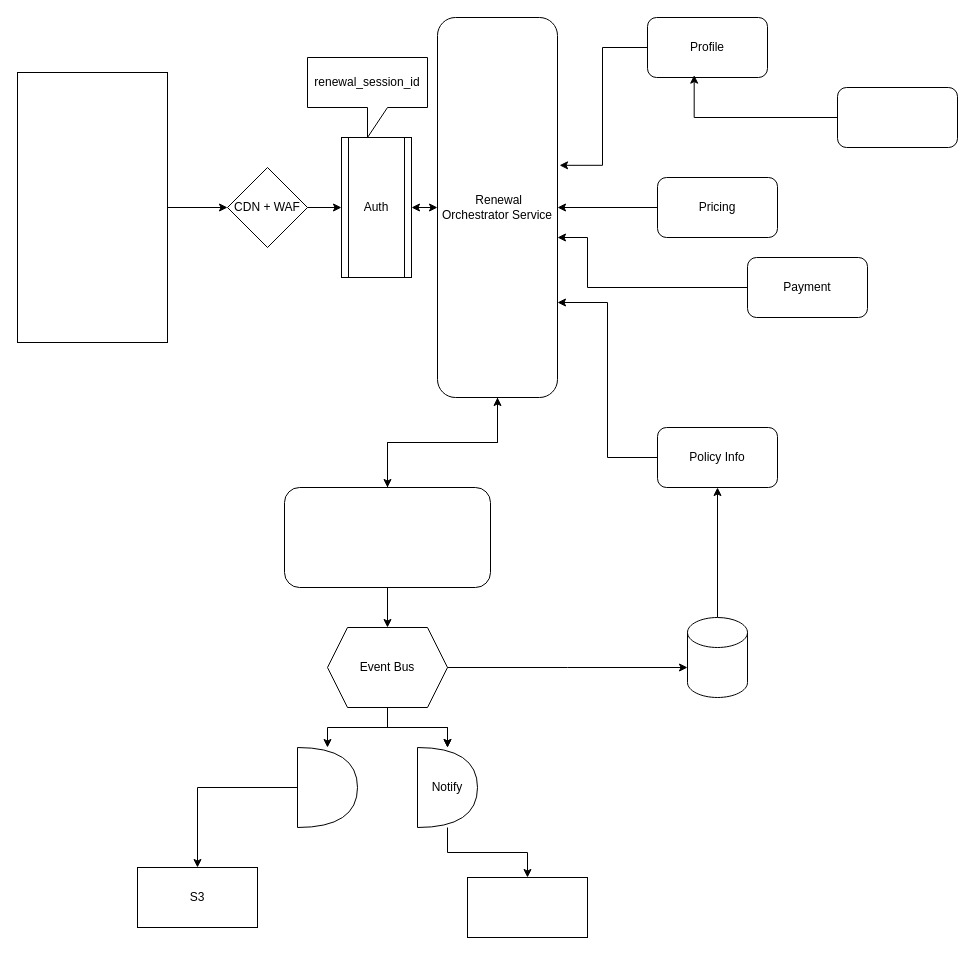
Image size: 975x955. Some labels were removed from this diagram. Each missing label, with the centre of its shape:
Claims: [897,117]
Customer (Web / App): [92,207]
Doc Service: [327,787]
Email/SMS: [527,907]
Policy: [717,657]
Policy Issuance / Renewal DB transaction: [387,537]
